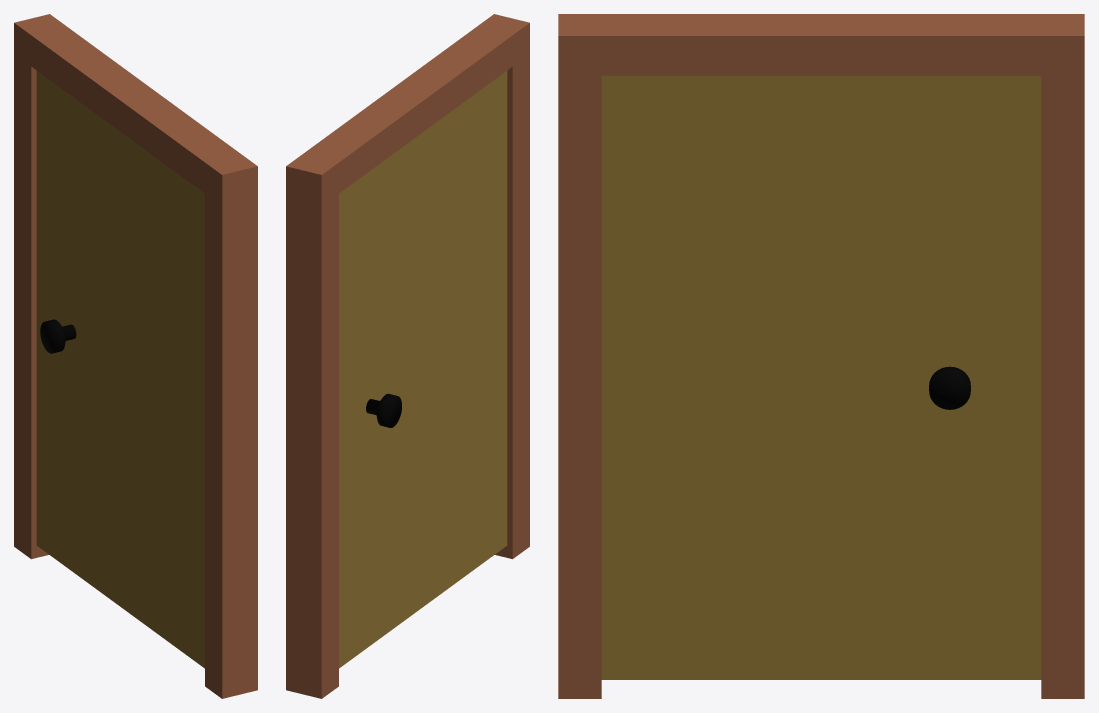
The model's file is Porta.fbx.
3 views of the same model, side by side, from view 1: azimuth 30°, elevation 25°; view 2: azimuth 150°, elevation 25°; view 3: azimuth 270°, elevation 25° (orthographic). The views are drawn at different scales.
Visible parts, largest first — view 1: Cube.003, Cube.035; view 2: Cube.003, Cube.035; view 3: Cube.003, Cube.035.
Part boxes in pixels (<box>): Cube.003: <box>36,71,204,668</box>; Cube.035: <box>14,14,257,698</box>; Cube.003: <box>339,71,507,668</box>; Cube.035: <box>286,14,529,698</box>; Cube.003: <box>601,75,1041,679</box>; Cube.035: <box>558,14,1084,698</box>.
Bounding box in the file's own units: 1.23 × 8.4 × 6.05.
